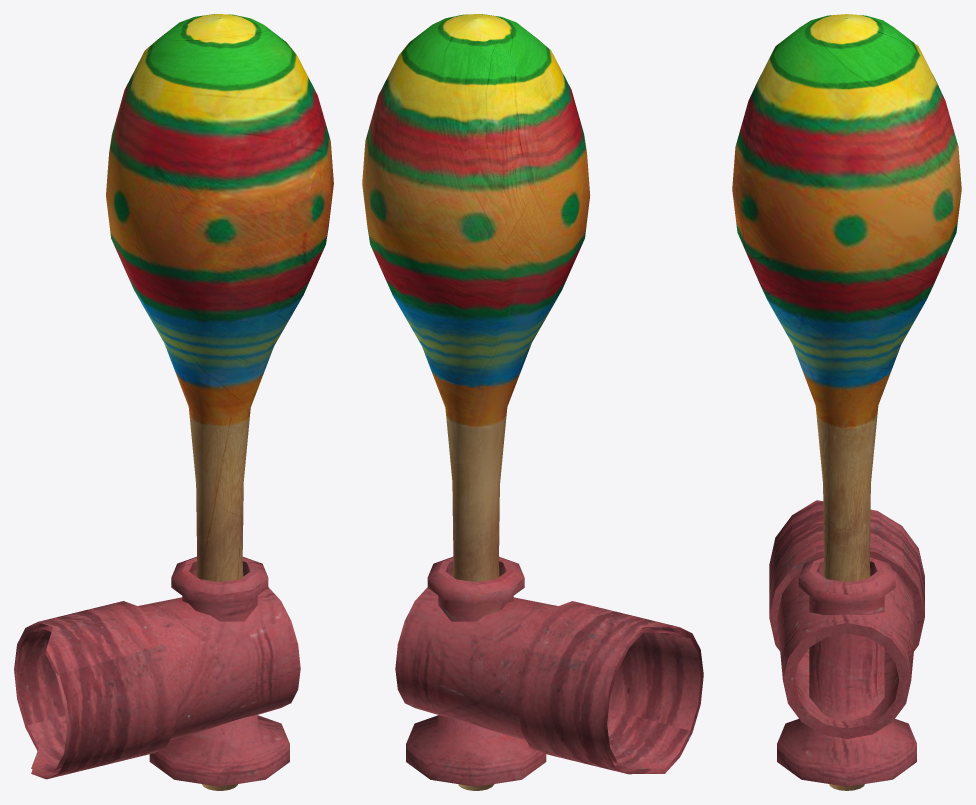
The model's file is RasselNeu.fbx.
3 views of the same model, side by side, from view 1: azimuth 30°, elevation 25°; view 2: azimuth 150°, elevation 25°; view 3: azimuth 270°, elevation 25° (orthographic).
Parts seen in each view (by area): view 1: halterung_1; view 2: halterung_1; view 3: halterung_1.
Boxes of the visible parts, left/top/right/bottom form: halterung_1: left=14, top=14, right=333, bottom=790; halterung_1: left=362, top=14, right=703, bottom=790; halterung_1: left=732, top=14, right=961, bottom=790.
Bounding box in the file's own units: 51.59 × 132 × 35.58.
1 material, 1 textured.
